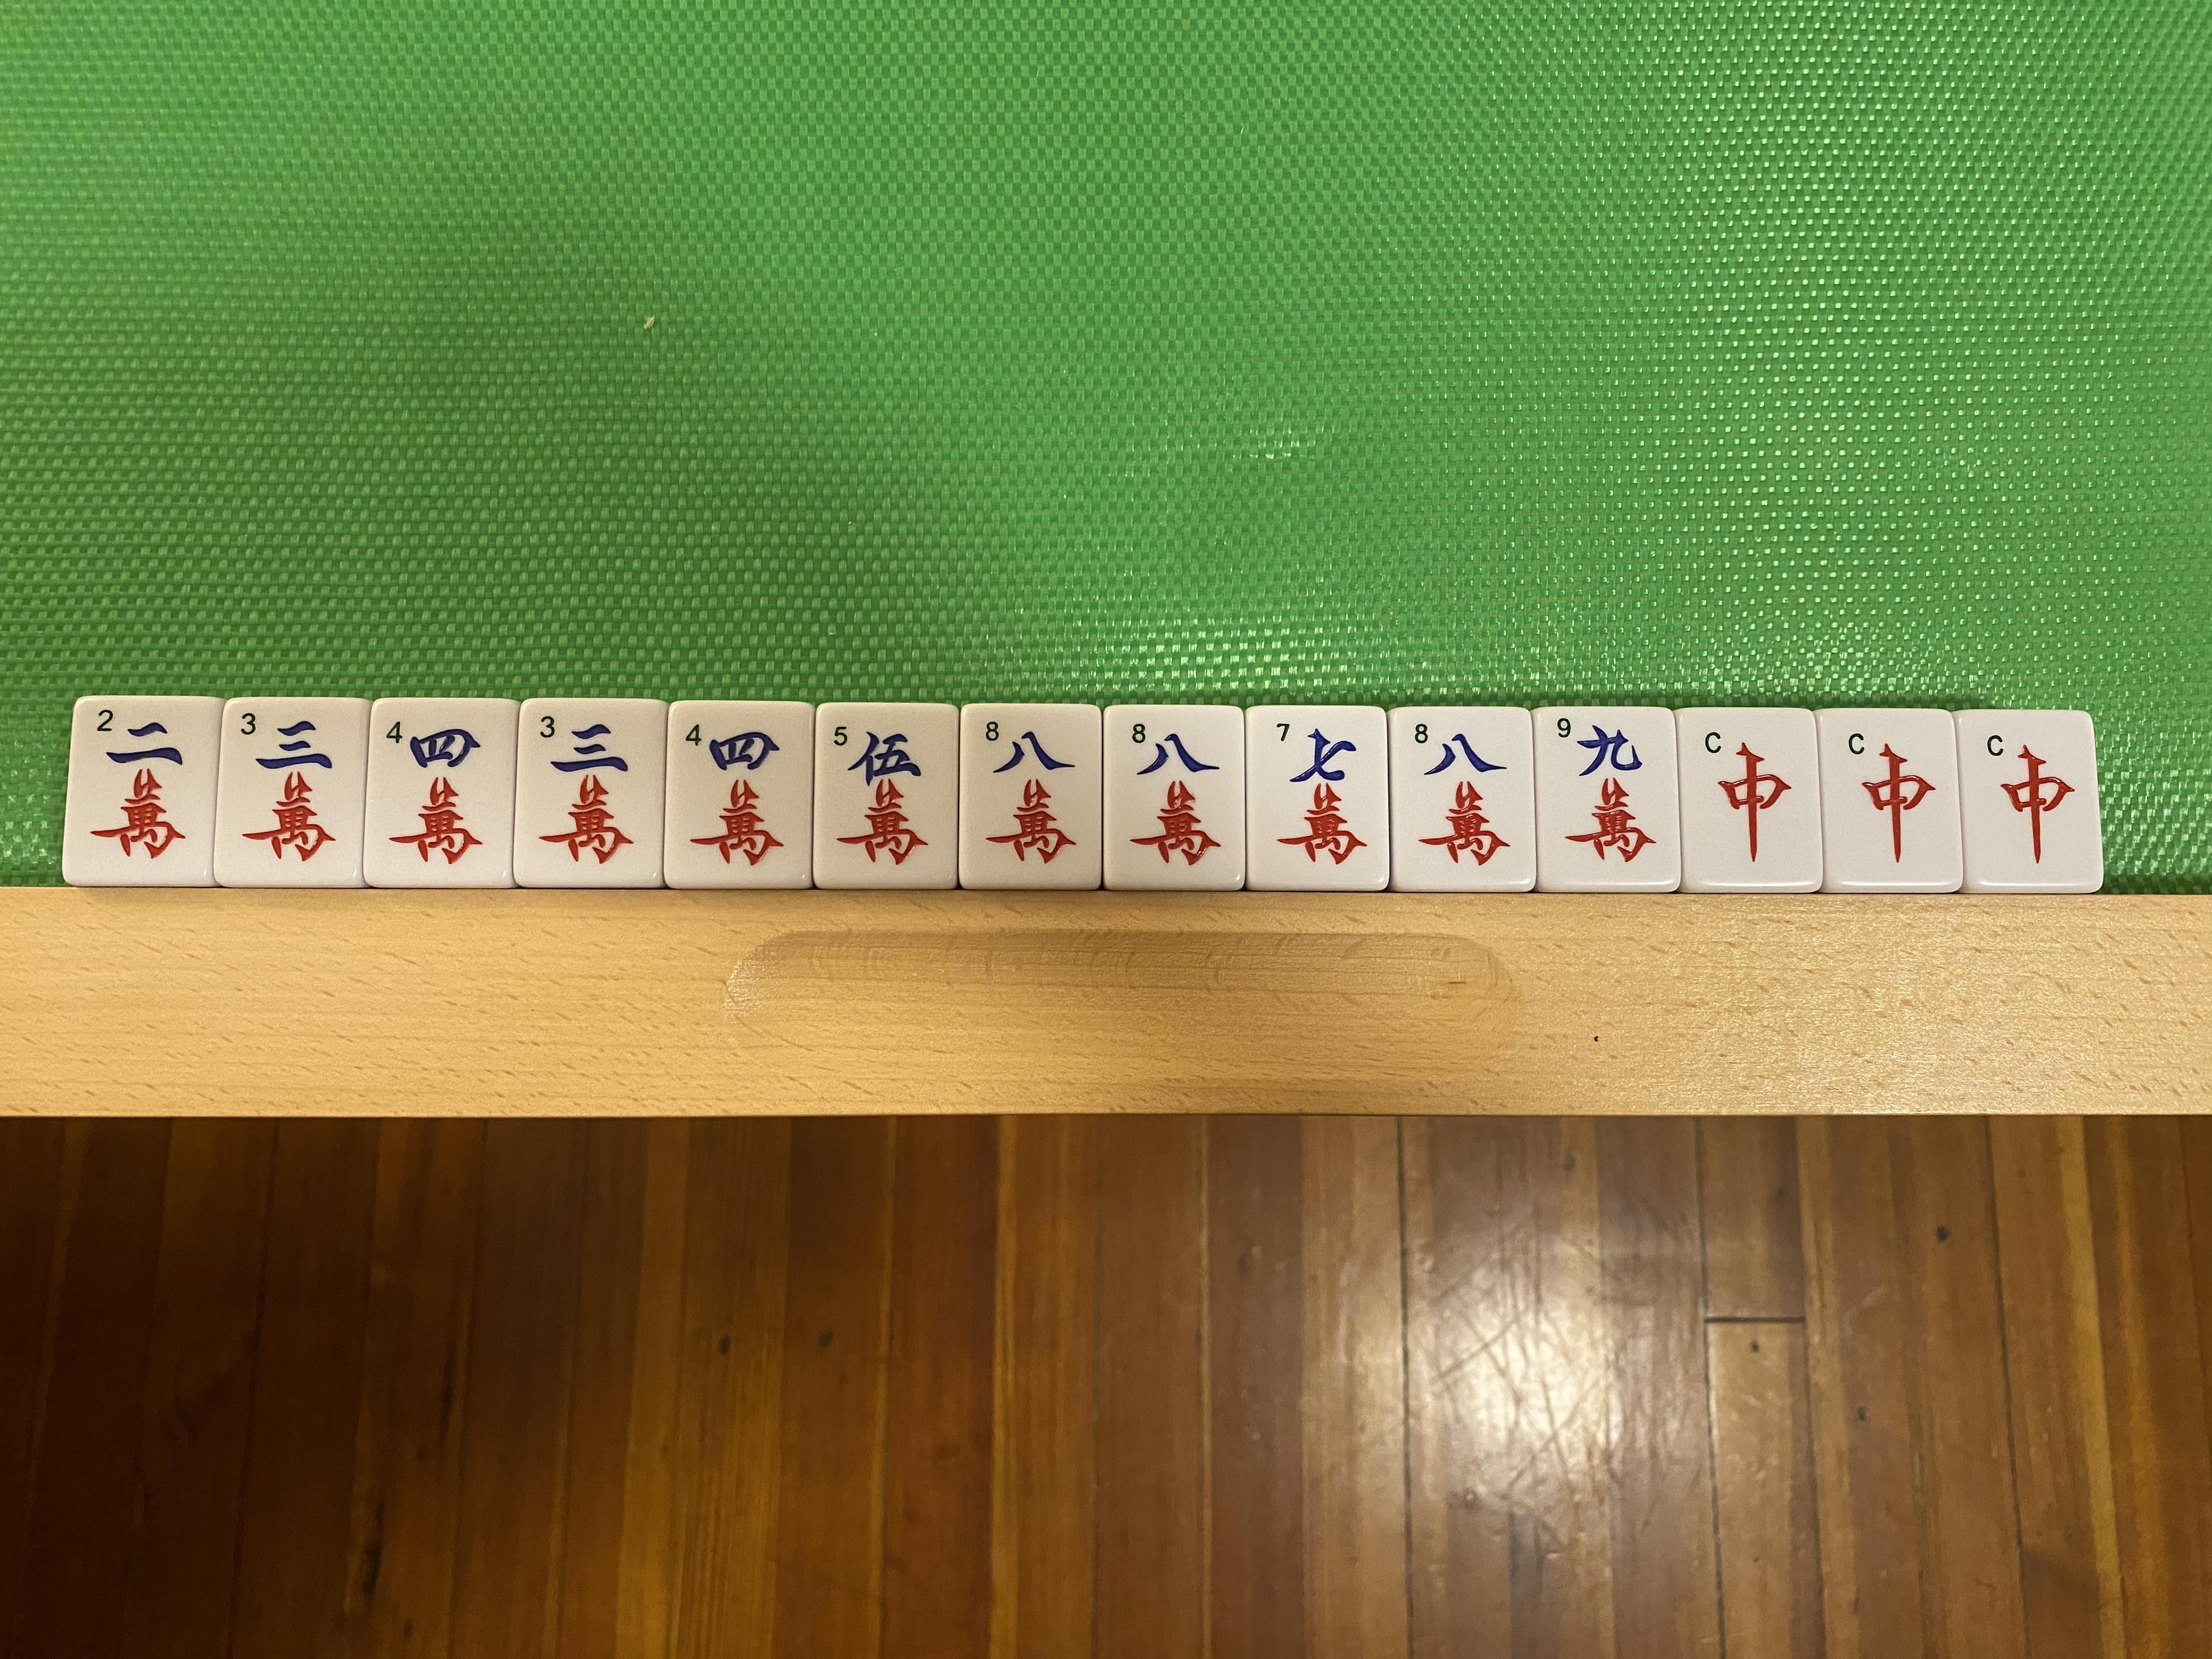circle-eight: (961, 708, 1099, 887), (1397, 711, 1531, 894), (1103, 709, 1242, 885)
circle-five: (820, 706, 958, 884)
circle-four: (371, 704, 516, 884), (671, 706, 815, 884)
circle-nine: (1540, 709, 1676, 894)
circle-seven: (1249, 706, 1386, 884)
circle-three: (517, 702, 669, 882), (218, 704, 368, 884)
circle-two: (73, 697, 209, 885)
honor-red_dragon: (1966, 711, 2097, 892), (1684, 711, 1815, 890), (1827, 711, 1956, 889)
